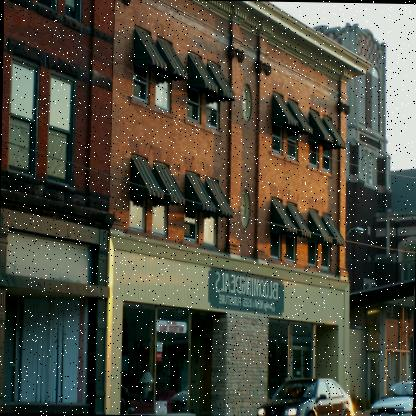Car: (268, 377, 357, 415), (368, 377, 413, 415)
